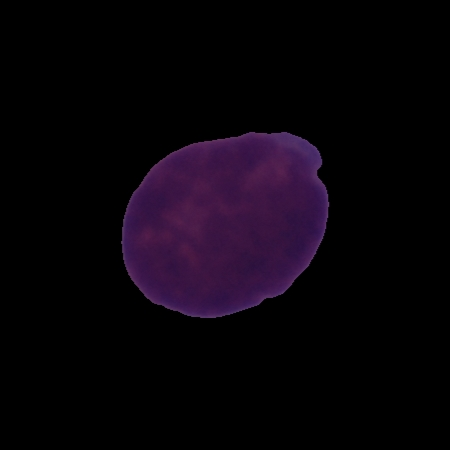ALL: (117, 127, 334, 322)
